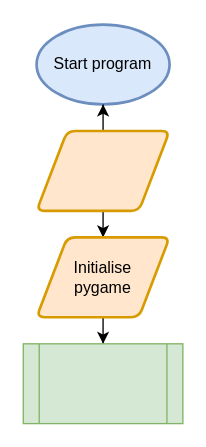
Some shapes in this 206 by 447 pixel diagram are drawn without their labels. Each missing label, with the centre of its shape:
Establish variables: pixel 102 170
Start screen: pixel 102 383
